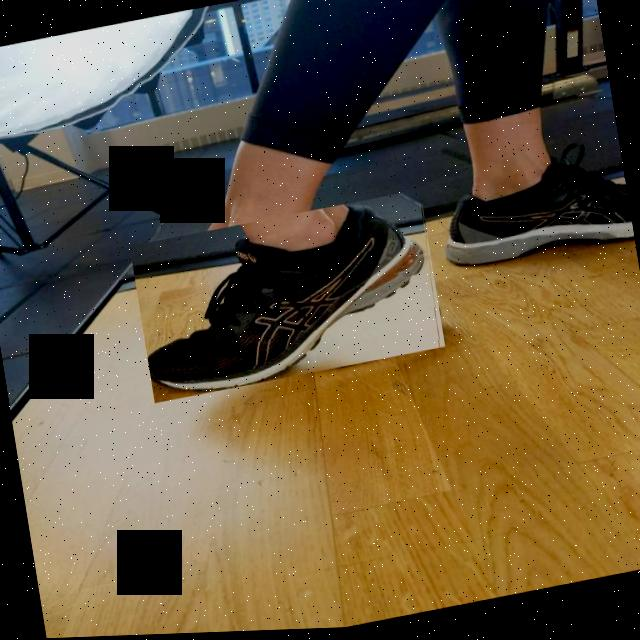shoe: (130, 192, 446, 405), (434, 149, 635, 279)
